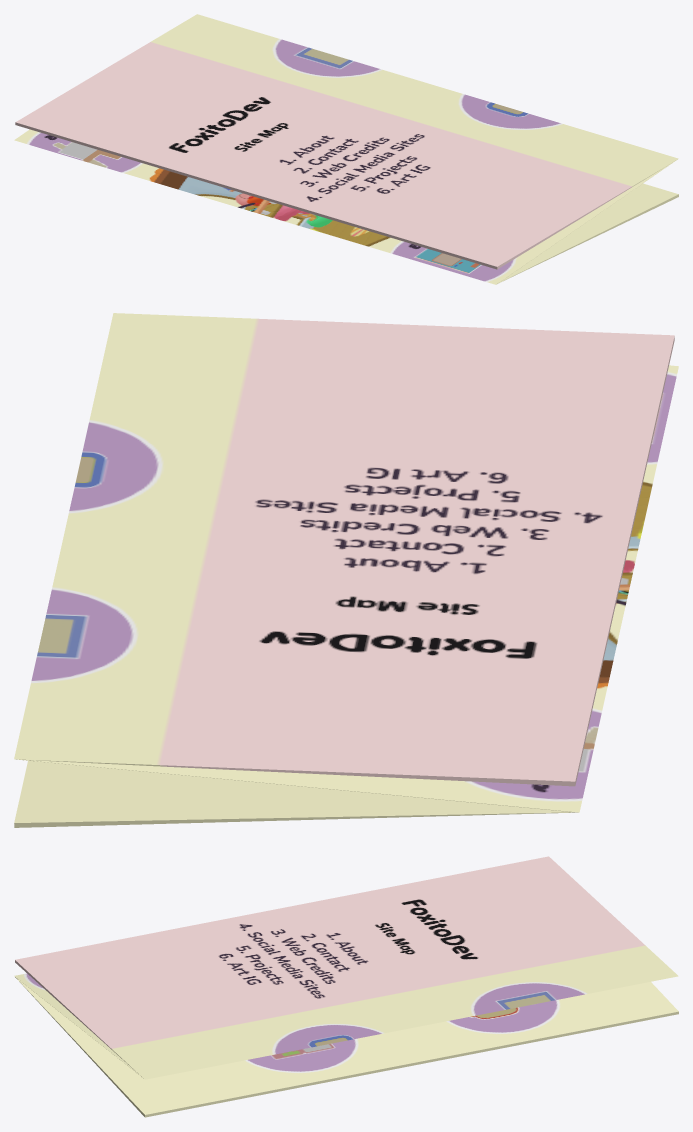
The model's file is map.glb.
3 views of the same model, one above another, from view 1: azimuth 30°, elevation 25°; view 2: azimuth 150°, elevation 25°; view 3: azimuth 270°, elevation 25° (orthographic). The views are drawn at different scales.
Parts seen in each view (by area): view 1: Map; view 2: Map; view 3: Map.
Boxes of the visible parts, x1,y1,x2,y2 form: Map: [14, 14, 678, 284]; Map: [14, 313, 678, 827]; Map: [14, 856, 678, 1117].
Bounding box in the file's own units: 3.56 × 0.2808 × 4.46.
1 material, 1 textured.
